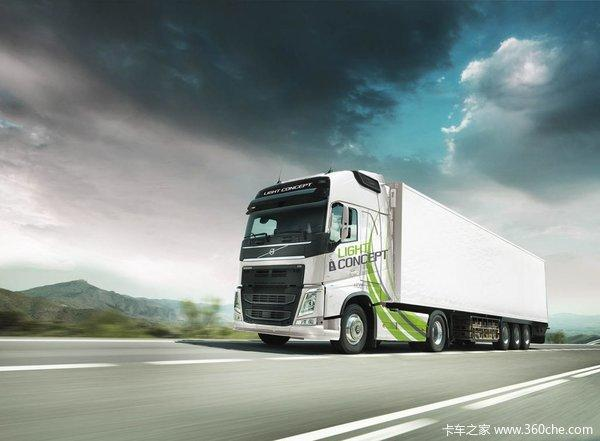truck: (228, 162, 554, 354)
